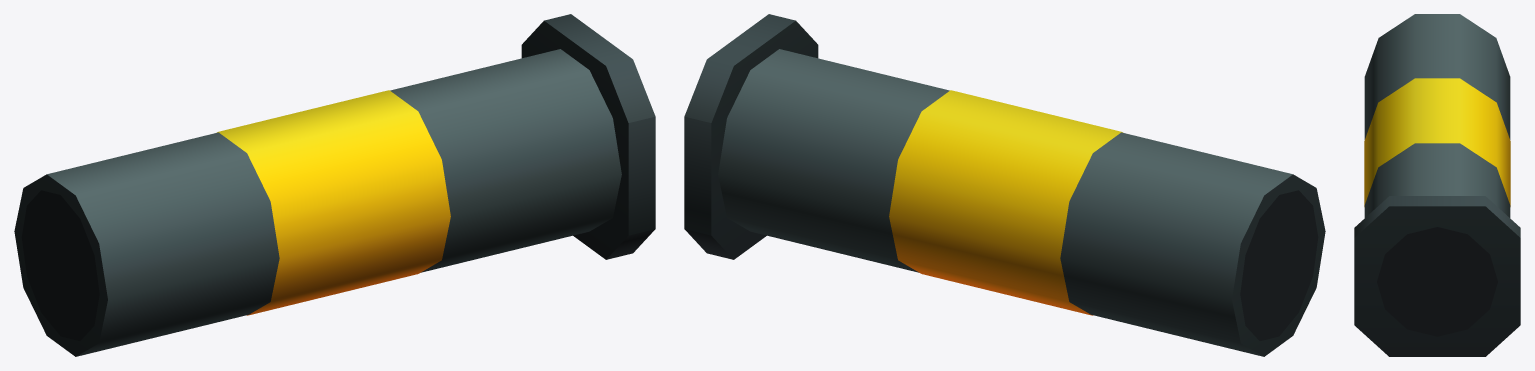
File: Pipe_3D.fbx
The picture shows the model from 3 angles, left to right: view 1: azimuth 30°, elevation 25°; view 2: azimuth 150°, elevation 25°; view 3: azimuth 270°, elevation 25°; orthographic projection. The views are drawn at different scales.
Visible parts, largest first — view 1: Pipe_3D; view 2: Pipe_3D; view 3: Pipe_3D.
Part boxes in pixels (bbox=[...]): Pipe_3D: bbox=[14, 14, 655, 356]; Pipe_3D: bbox=[684, 14, 1325, 356]; Pipe_3D: bbox=[1354, 14, 1520, 356].
Bounding box in the file's own units: 401 × 137 × 137.
